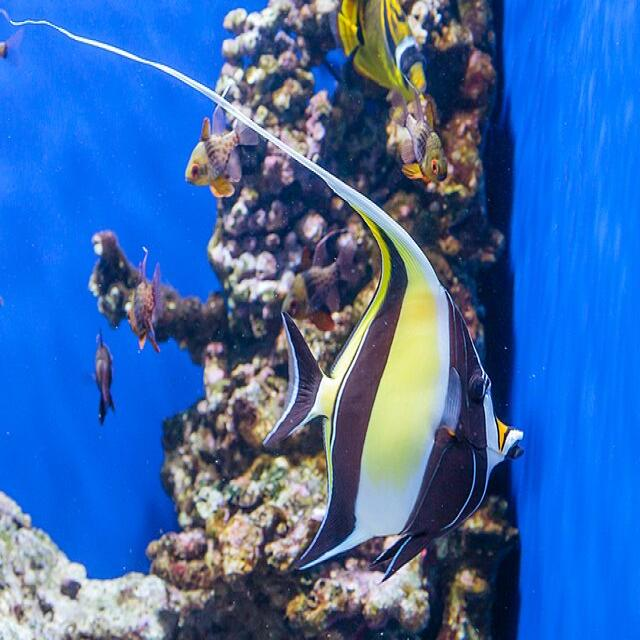MorishIdol: (1, 7, 526, 586)
